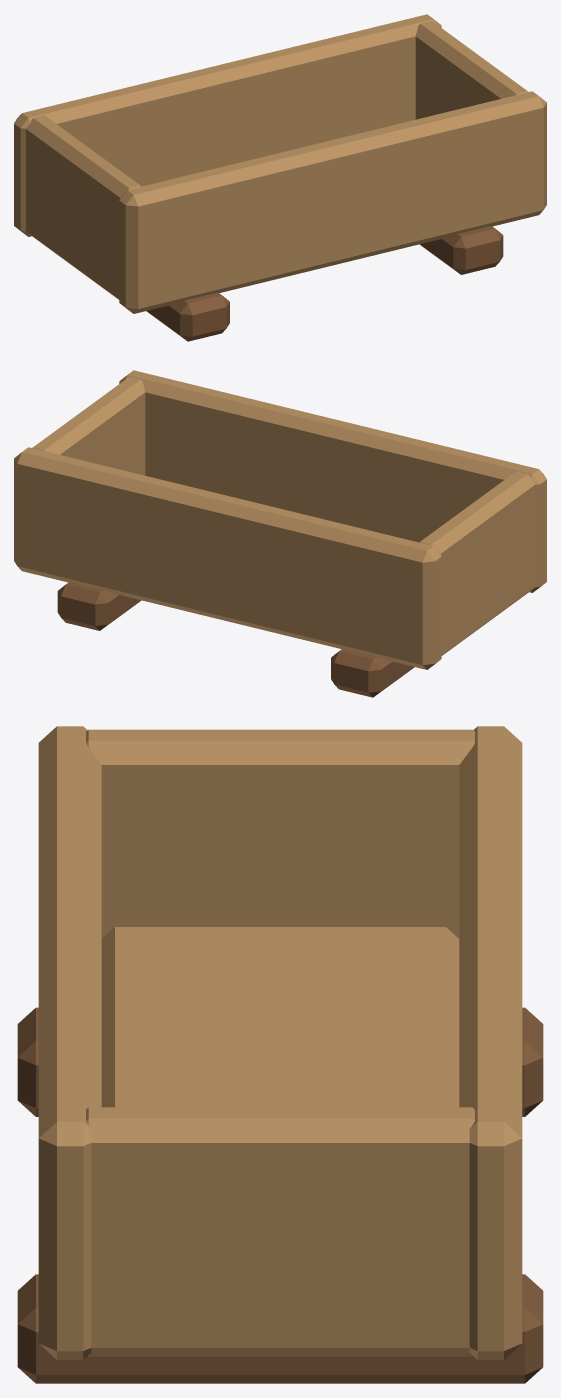
File: CC_Feeder.fbx
3 views of the same model, one above another, from view 1: azimuth 30°, elevation 25°; view 2: azimuth 150°, elevation 25°; view 3: azimuth 270°, elevation 25° (orthographic). The views are drawn at different scales.
Parts seen in each view (by area): view 1: Side, Side.001, End, End.001, Foot.001, Foot; view 2: Side.001, Side, End, End.001, Foot.001, Foot; view 3: End.001, End, Bottom, Side, Side.001, Foot.001, Foot.
Part boxes in pixels (<box>): Side: <box>119,91,546,313</box>; Side.001: <box>14,14,441,236</box>; End: <box>26,115,141,299</box>; End.001: <box>415,21,528,119</box>; Foot.001: <box>419,225,503,274</box>; Foot: <box>146,292,229,341</box>; Side.001: <box>14,447,441,669</box>; Side: <box>119,370,546,592</box>; End: <box>419,471,534,655</box>; End.001: <box>32,377,145,475</box>; Foot.001: <box>57,581,141,630</box>; Foot: <box>331,648,414,697</box>; End.001: <box>86,1107,474,1356</box>; End: <box>86,729,474,938</box>; Bottom: <box>101,927,459,1107</box>; Side: <box>38,726,101,1359</box>; Side.001: <box>459,726,522,1359</box>; Foot.001: <box>17,1274,543,1383</box>; Foot: <box>17,1007,543,1116</box>.
Bounding box in the file's own units: 1.85 × 0.65 × 1.
